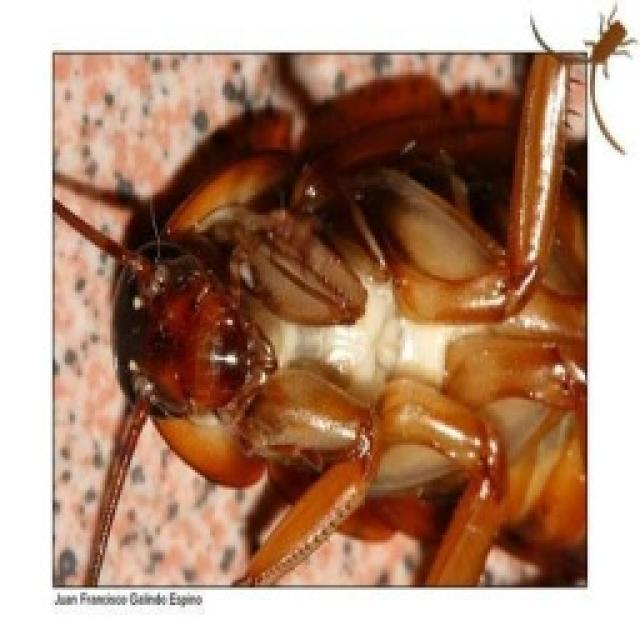cockroach: (66, 47, 596, 586)
